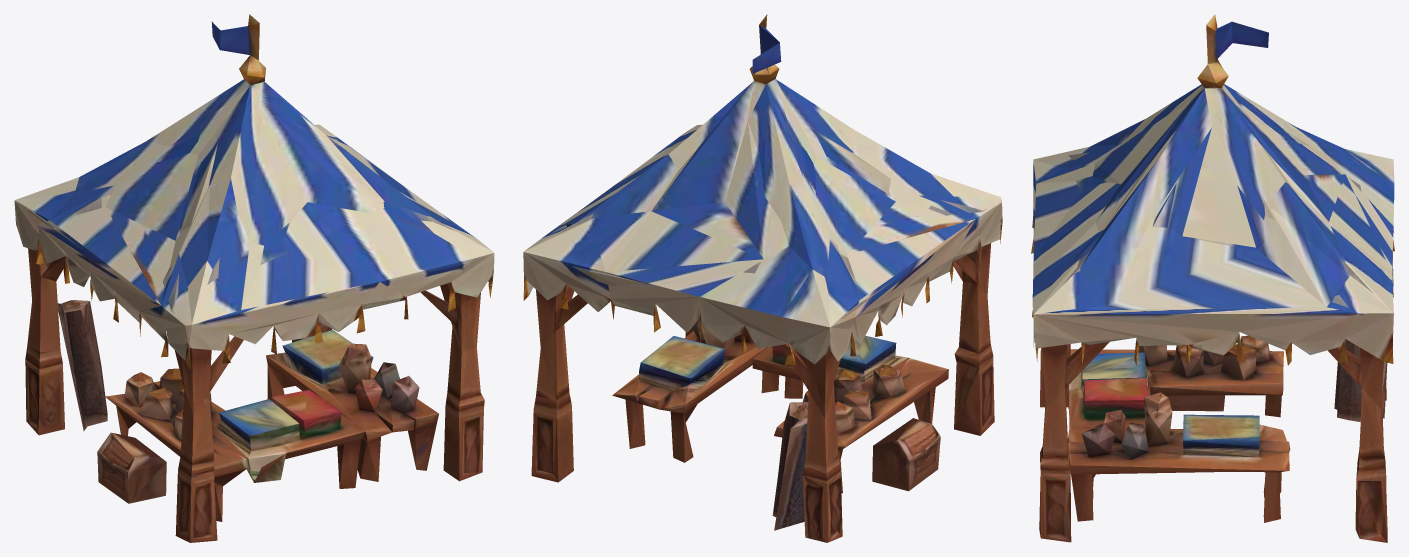
The model's file is oc_pavilion.glb.
The picture shows the model from 3 angles, left to right: view 1: azimuth 30°, elevation 25°; view 2: azimuth 150°, elevation 25°; view 3: azimuth 270°, elevation 25°; orthographic projection. The views are drawn at different scales.
Visible parts, largest first — view 1: W_market_pavilion_blue; view 2: W_market_pavilion_blue; view 3: W_market_pavilion_blue.
Boxes of the visible parts, bbox=[...] form: W_market_pavilion_blue: bbox=[14, 14, 494, 542]; W_market_pavilion_blue: bbox=[523, 14, 1002, 542]; W_market_pavilion_blue: bbox=[1031, 14, 1394, 542].
Bounding box in the file's own units: 3.44 × 4.6 × 3.36.
Materials: 1 (1 with a texture image).
